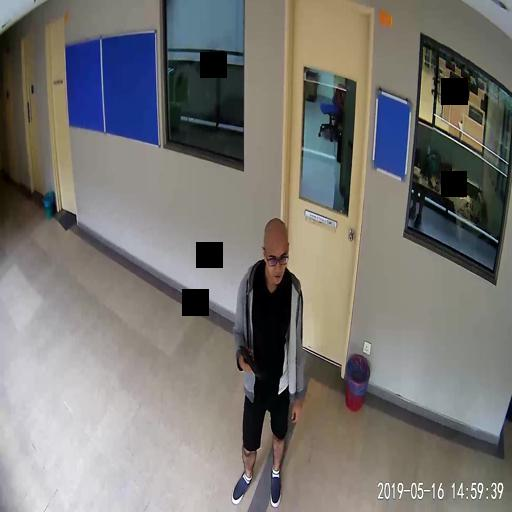Handgun: (238, 344, 260, 378)
